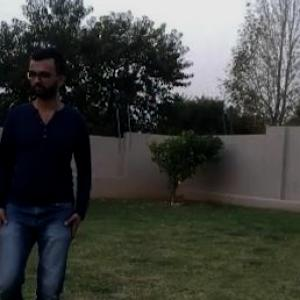follow: (0, 0, 99, 299)
